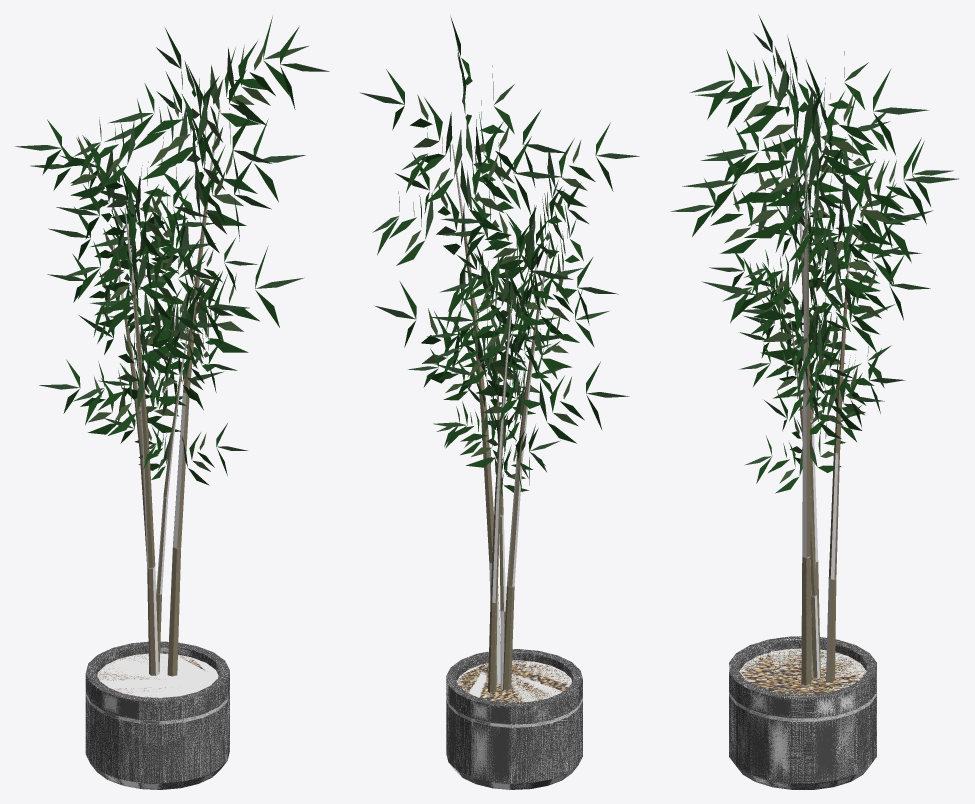
The model's file is plantpot.fbx.
3 views of the same model, side by side, from view 1: azimuth 30°, elevation 25°; view 2: azimuth 150°, elevation 25°; view 3: azimuth 270°, elevation 25° (orthographic). The views are drawn at different scales.
Parts seen in each view (by area): view 1: skp71A3_1; view 2: skp71A3_1; view 3: skp71A3_1.
Boxes of the visible parts, box(x1,y1,x2,y2) form: skp71A3_1: box(15, 16, 329, 789); skp71A3_1: box(360, 16, 639, 789); skp71A3_1: box(670, 15, 958, 789).
Bounding box in the file's own units: 1.14 × 2.97 × 1.02.
